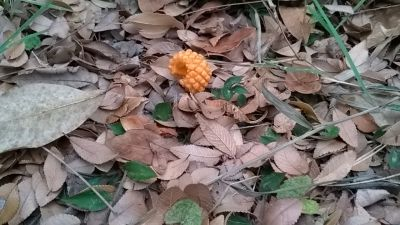eggs: (169, 49, 212, 92)
